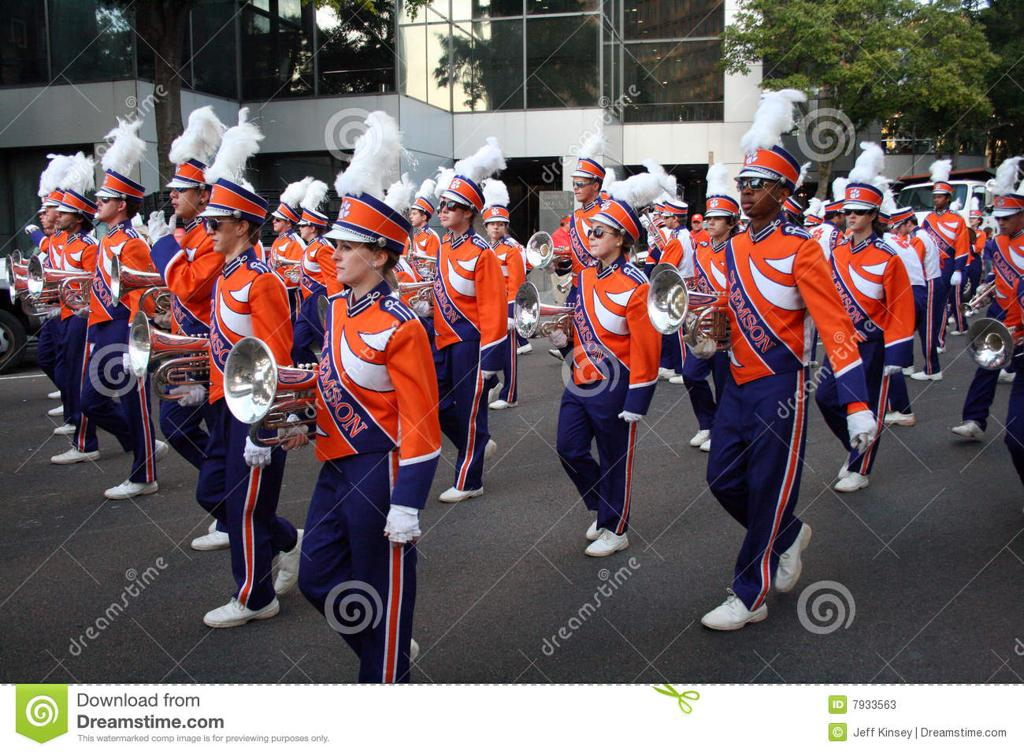face: (333, 230, 375, 282), (740, 170, 780, 215), (206, 207, 237, 250), (170, 175, 201, 215), (588, 221, 615, 255), (439, 195, 466, 225), (95, 188, 120, 218), (845, 201, 872, 228), (572, 173, 594, 201), (996, 207, 1017, 234), (707, 210, 728, 236), (56, 205, 78, 228), (486, 216, 504, 237), (45, 200, 61, 220), (272, 211, 286, 230), (39, 209, 53, 228), (409, 208, 423, 226), (933, 191, 947, 207), (298, 219, 310, 237), (664, 212, 676, 227), (896, 220, 908, 234), (437, 209, 448, 223), (653, 212, 661, 225), (692, 218, 701, 229), (969, 214, 978, 225), (565, 220, 573, 230)
notAface: (781, 527, 823, 576), (928, 226, 970, 262), (147, 498, 189, 533), (973, 593, 1015, 625), (347, 401, 389, 431), (667, 724, 709, 752), (176, 604, 218, 630), (68, 637, 110, 659), (339, 213, 381, 232), (938, 112, 980, 131)
